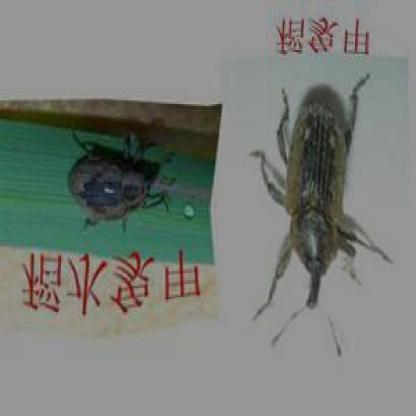rice-bug: (268, 93, 359, 314), (70, 142, 166, 220)
